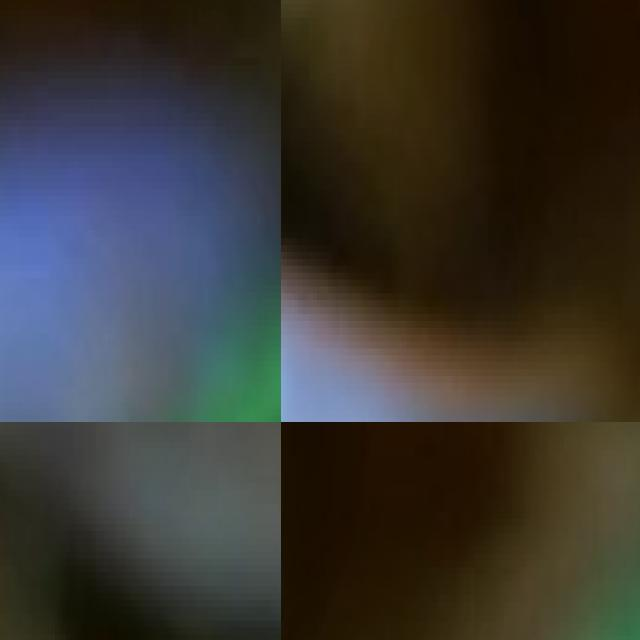fish: (0, 0, 281, 422), (281, 183, 640, 422)
